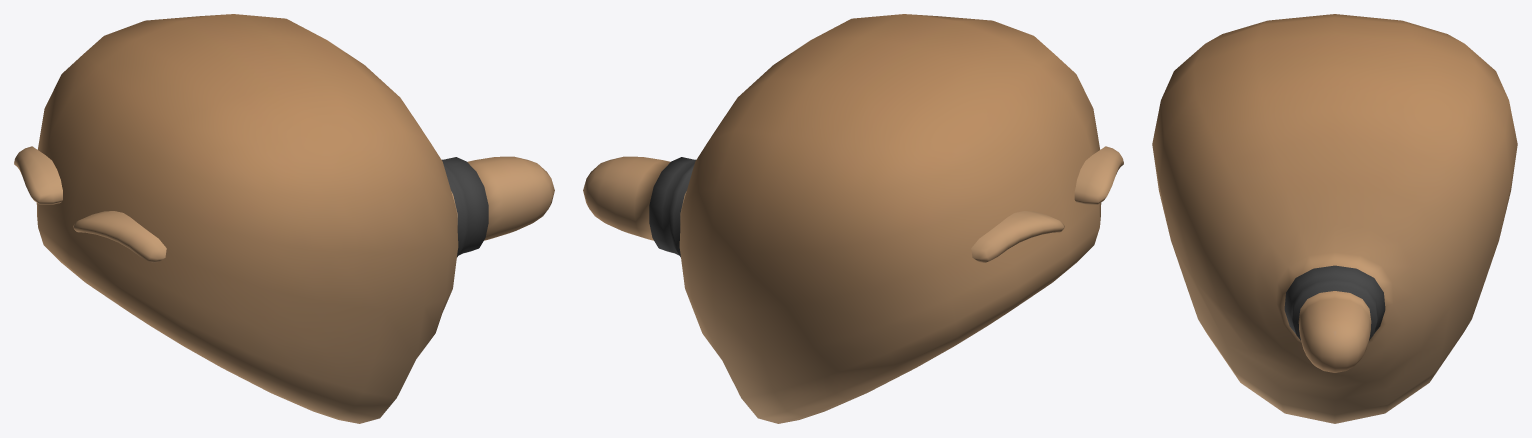
Rendered from Hair02.fbx.
3 views of the same model, side by side, from view 1: azimuth 30°, elevation 25°; view 2: azimuth 150°, elevation 25°; view 3: azimuth 270°, elevation 25° (orthographic). The views are drawn at different scales.
Visible parts, largest first — view 1: Hair02; view 2: Hair02; view 3: Hair02.
Part boxes in pixels (bbox=[...]): Hair02: bbox=[14, 14, 554, 423]; Hair02: bbox=[583, 14, 1123, 423]; Hair02: bbox=[1152, 14, 1517, 423].
Bounding box in the file's own units: 1.09 × 0.8063 × 0.8128.
